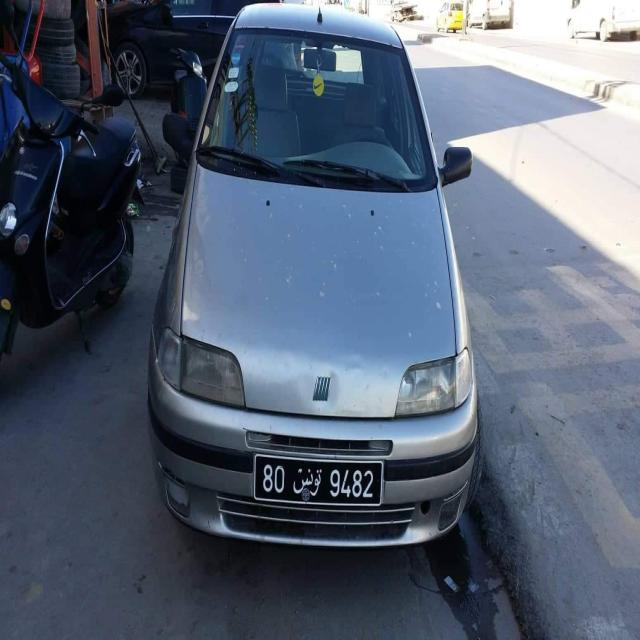LP: (253, 451, 382, 508)
